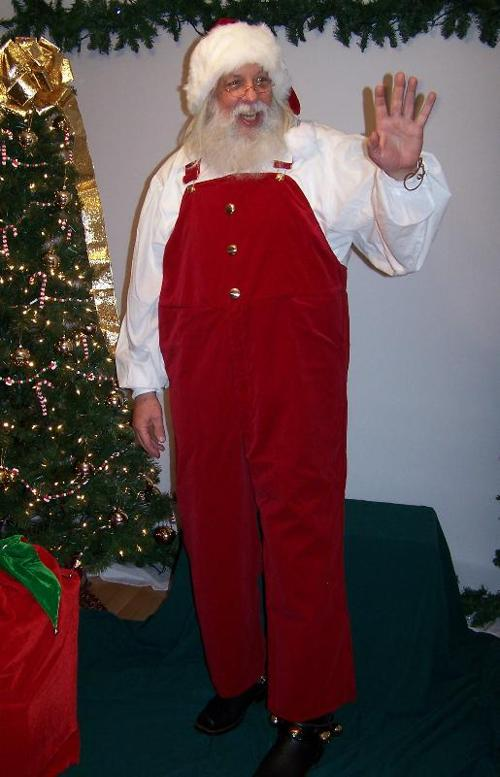person: (125, 16, 449, 769)
